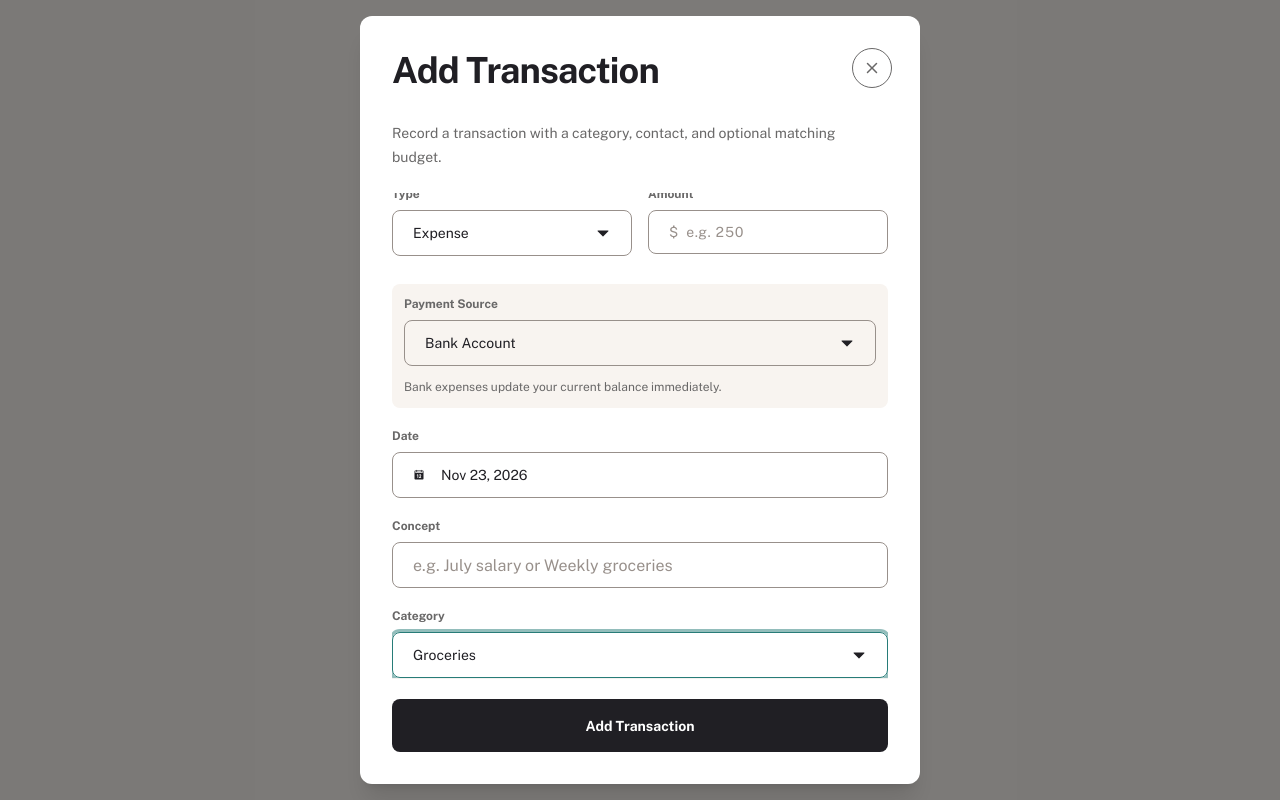
Test case: contact quick create keyboard flow › the shared dropdown still supports category creation and reopening after cancel
The width and height of the screenshot is (1280, 800).
Step 1. Press Arrowdown End Enter
(page scrolled)
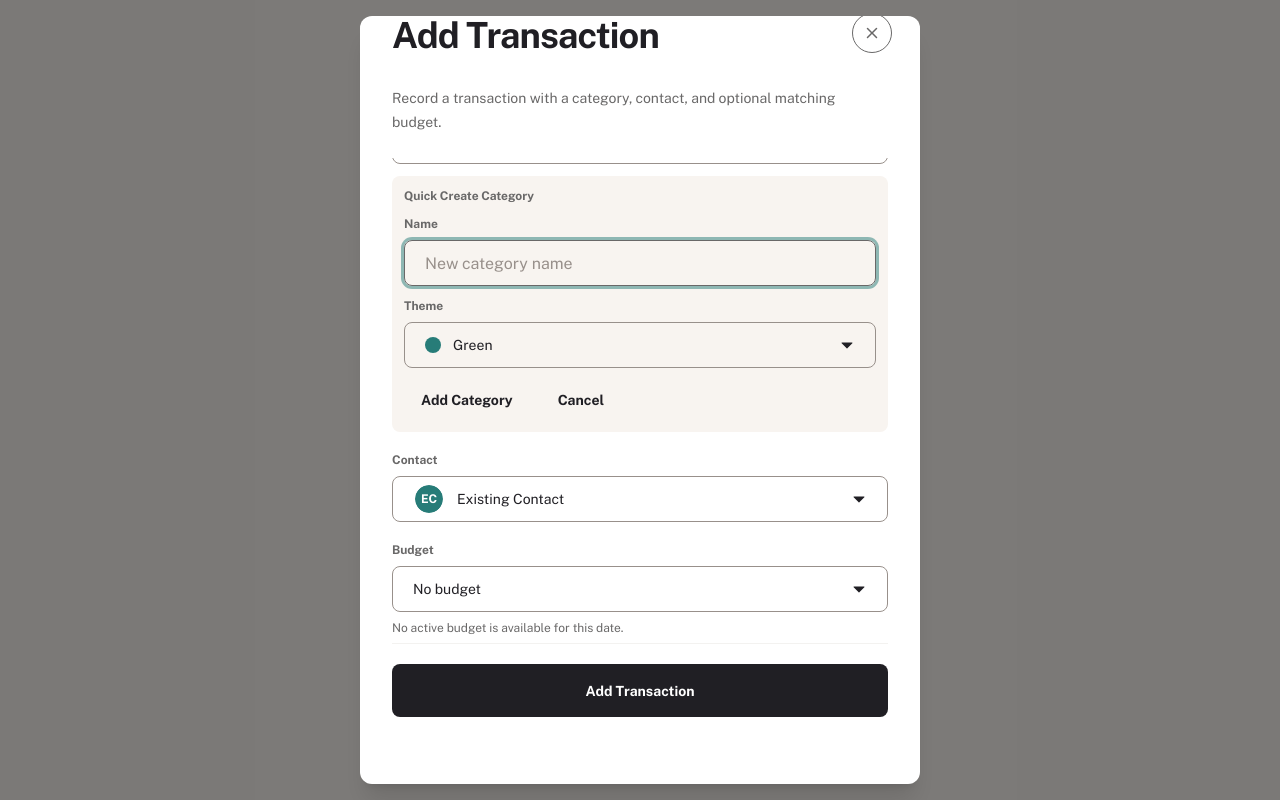
Step 2. Click the button "Cancel" → click(581, 400), box [542,380,620,420]
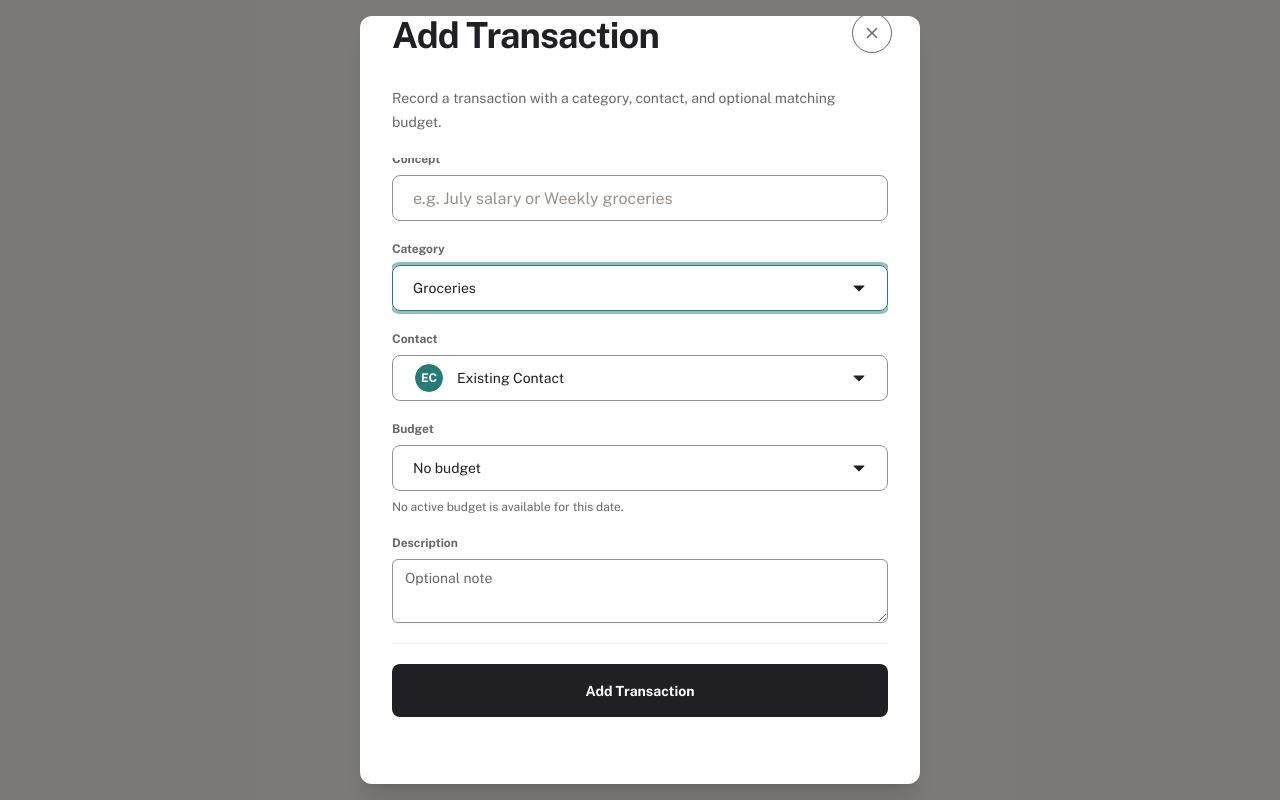
Check: the dropdown named "Category" reads "Groceries", box [392,265,888,311]
Step 3. Press Arrowdown End Enter
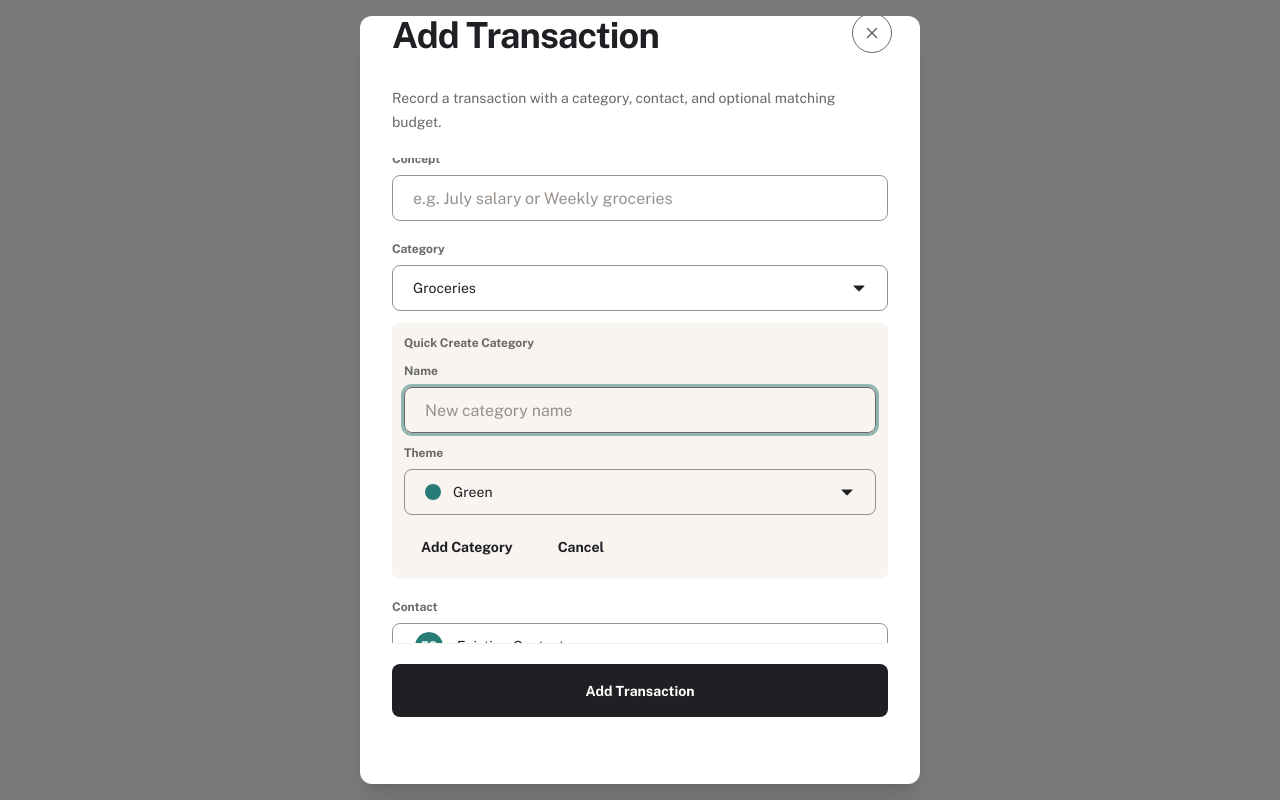
Step 4. Type keys "New Category"
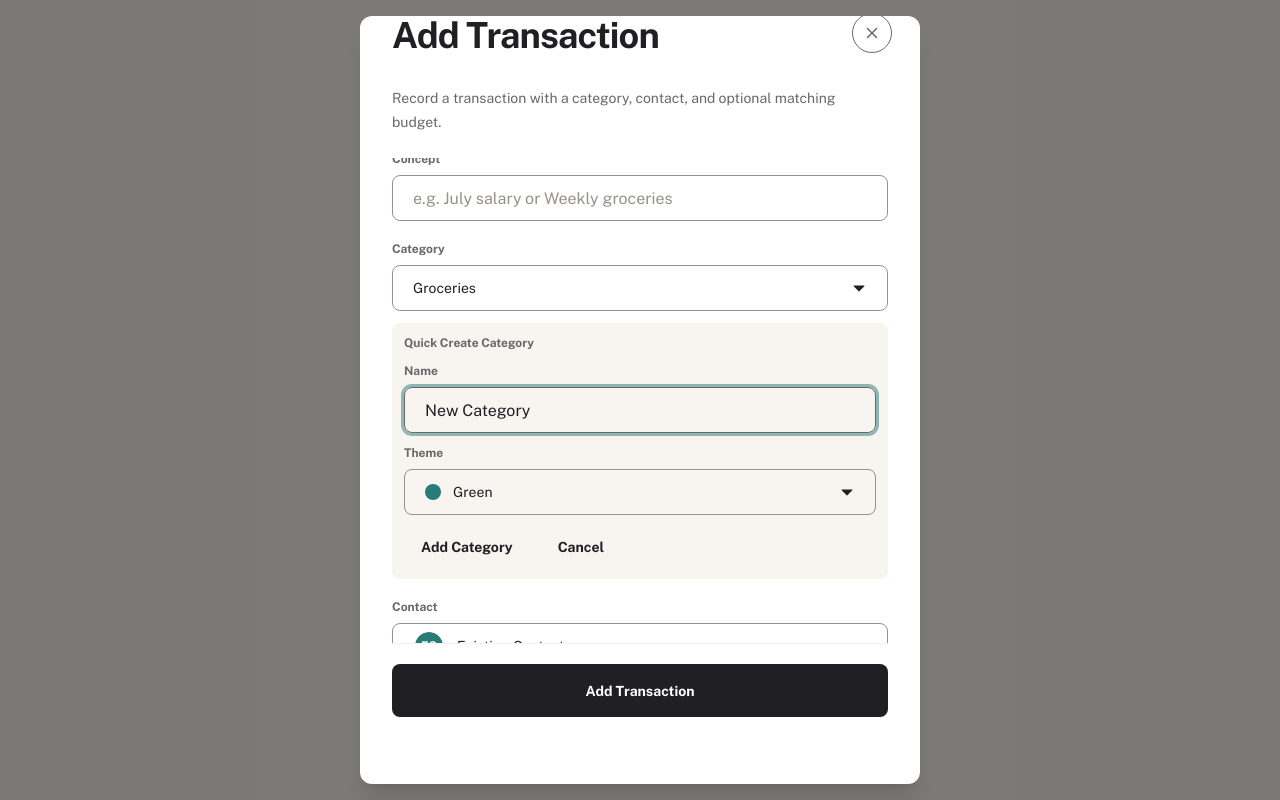
Step 5. Click the button "Add Category" → click(467, 547), box [404,527,530,567]
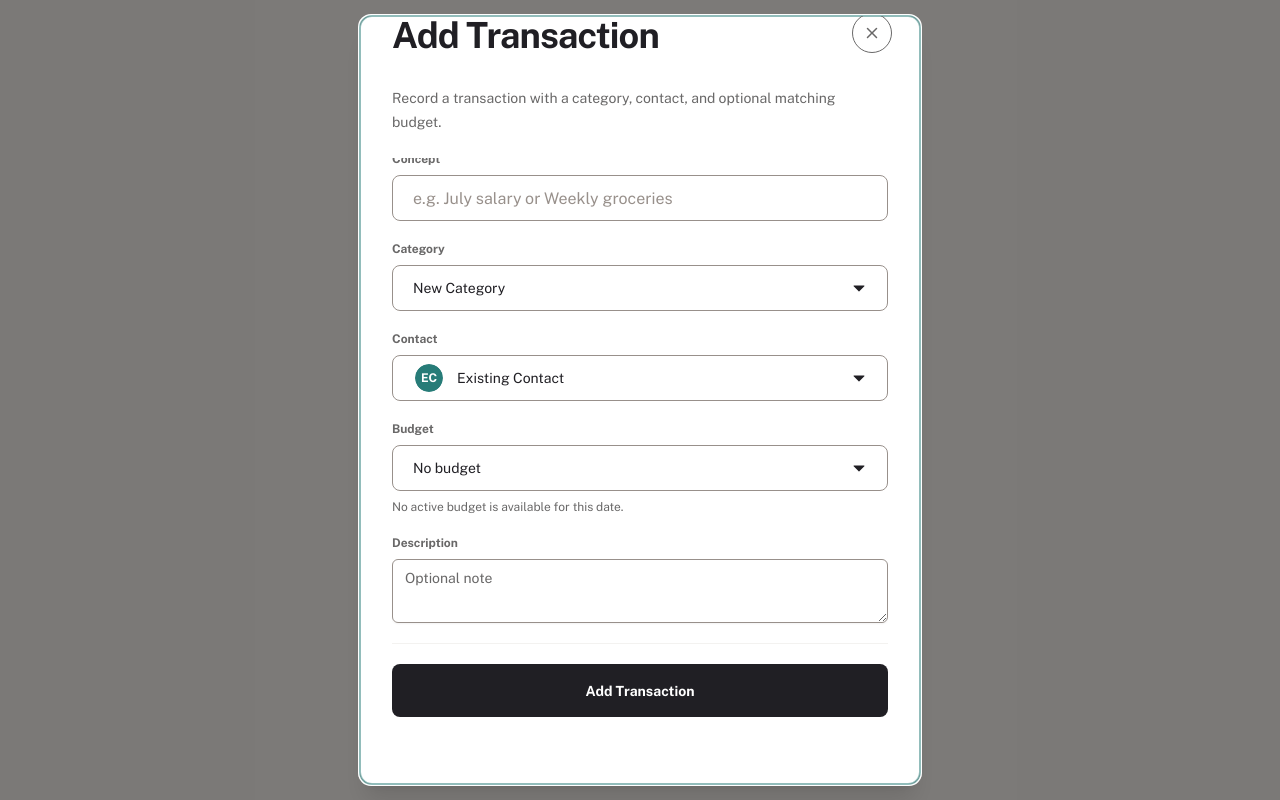
Check: the dropdown labelled "Category" reads "New Category", box [392,265,888,311]
